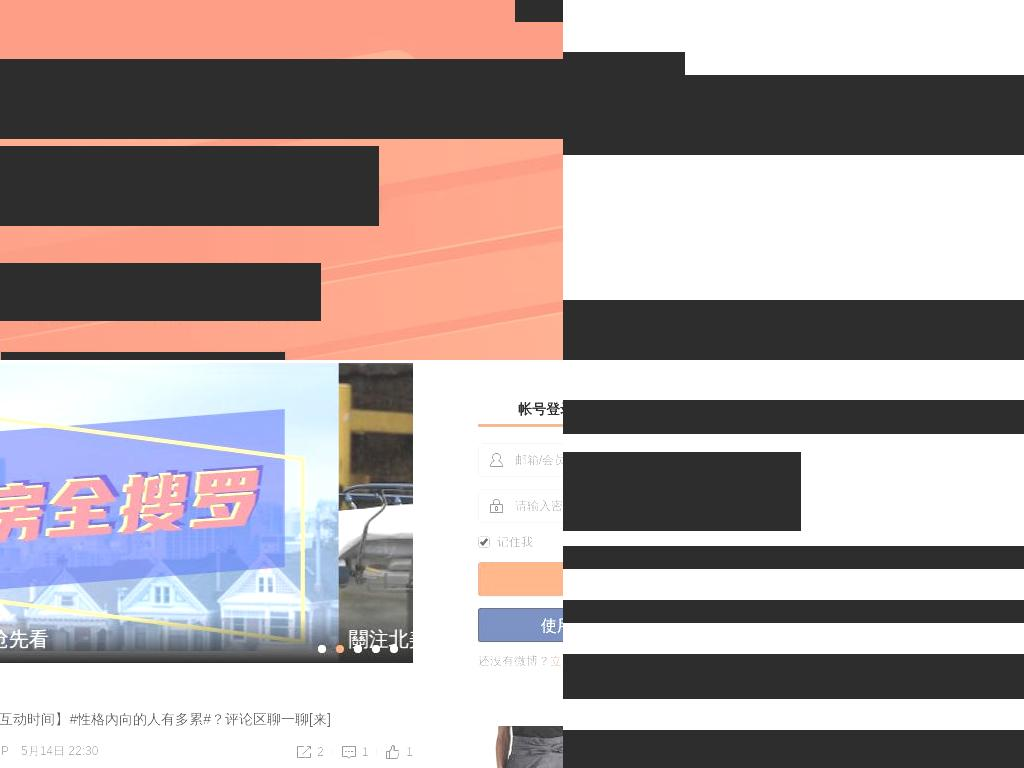button: (563, 52, 685, 152), (0, 652, 413, 666), (478, 562, 563, 596), (478, 608, 563, 642), (478, 394, 563, 427), (413, 652, 563, 666), (696, 139, 745, 155)
field: (513, 446, 563, 474), (513, 492, 563, 520), (478, 535, 491, 549)
heading: (563, 300, 1024, 360), (563, 400, 1024, 434), (0, 707, 413, 731), (673, 75, 745, 125)
iframe: (563, 452, 801, 531)
image: (0, 363, 413, 663), (413, 363, 563, 663), (563, 75, 1024, 155), (336, 645, 344, 653)
link: (550, 654, 563, 668)
text: (0, 59, 563, 139), (0, 146, 379, 226), (0, 615, 413, 663), (0, 263, 321, 321), (563, 730, 1024, 768), (563, 546, 1024, 569), (563, 600, 1024, 623), (563, 654, 1024, 677), (563, 676, 1024, 699), (563, 135, 1024, 155), (413, 615, 563, 663), (21, 741, 99, 761), (478, 654, 550, 668), (515, 499, 563, 514), (497, 535, 533, 550), (385, 741, 402, 762), (340, 741, 357, 762), (295, 741, 312, 762), (406, 744, 414, 759), (316, 744, 324, 759), (361, 744, 368, 759)
